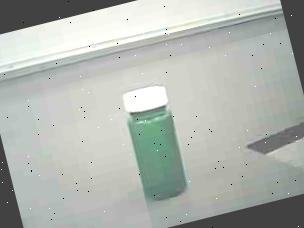Bottle C: (106, 73, 208, 218)
